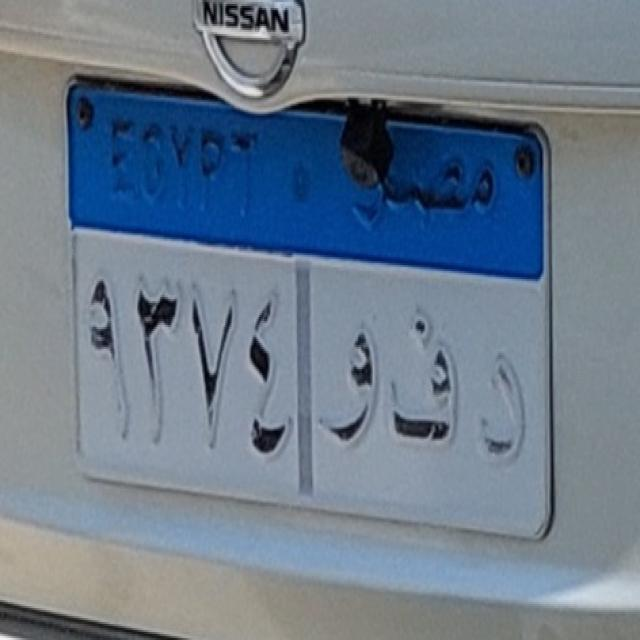3: (124, 260, 190, 460)
4: (235, 280, 299, 482)
7: (180, 274, 243, 472)
9: (78, 266, 138, 464)
F: (383, 292, 468, 470)
Wow: (314, 298, 389, 471)
daal: (467, 327, 532, 478)
